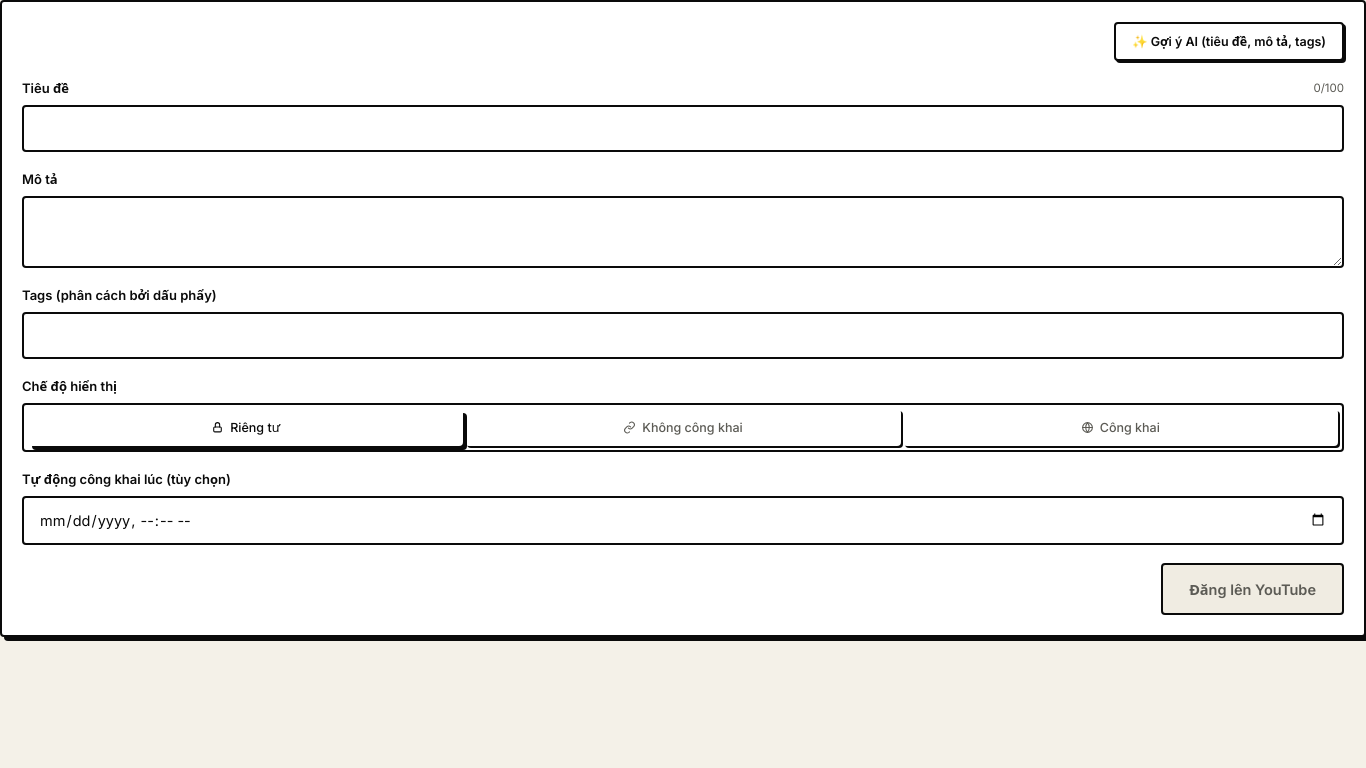
PublishForm › disables submit until title is filled
The image size is (1366, 768).
Expected: the button with test id "publish-form-submit-button" is disabled, [1161,563,1344,615]
In the field with test id "publish-form-title-input": (683, 128) [22,105,1344,152], type "My Video"
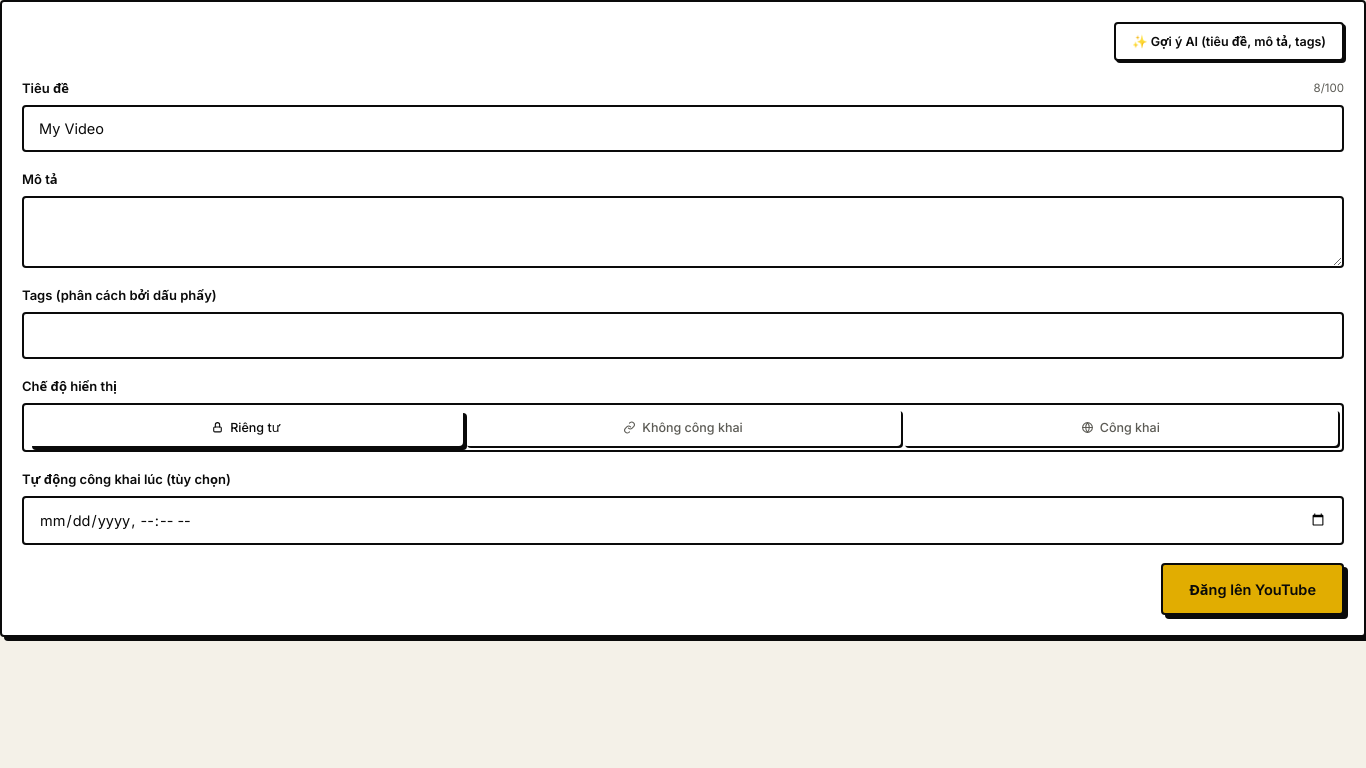
Expected: the button with test id "publish-form-submit-button" is enabled, [1161,563,1344,615]
